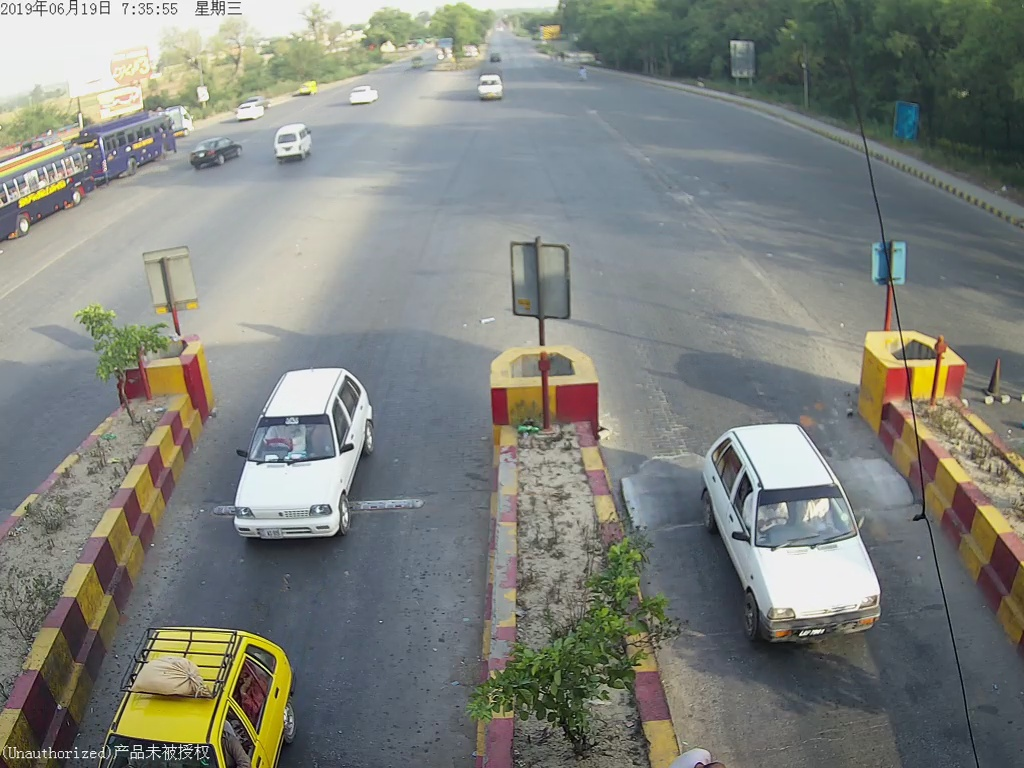Cat-1: (694, 405, 902, 657), (226, 363, 389, 546)
